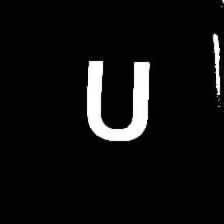LTR_U: (78, 48, 156, 151)
